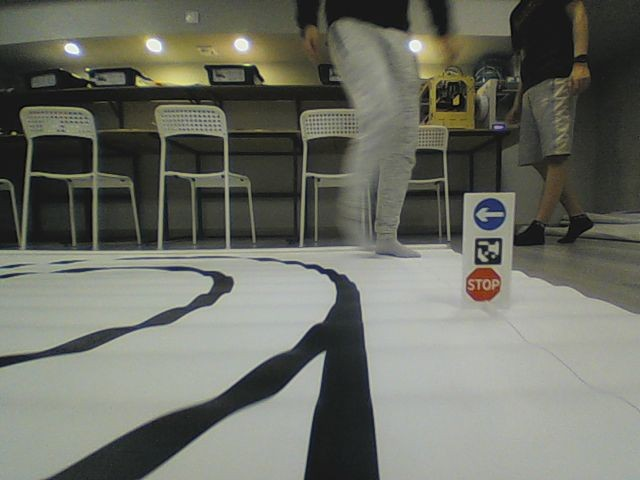Stop: (463, 267, 503, 303)
